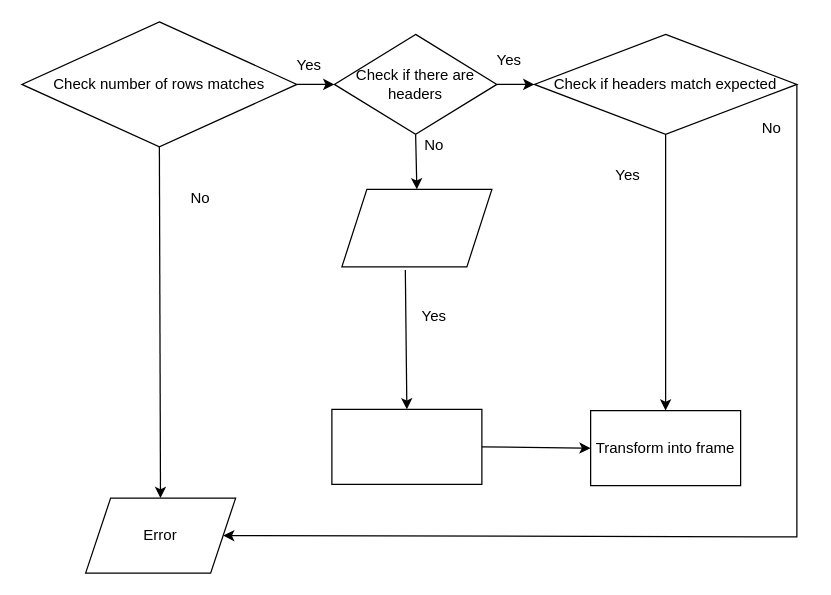
This 831x595 diagram has some shape labels left out. Here are the shapes that lost their labels. From the top down, the centre of each, then its label:
At pixel 416 227: "Print/log Warning".
At pixel 406 446: "Add headers".
